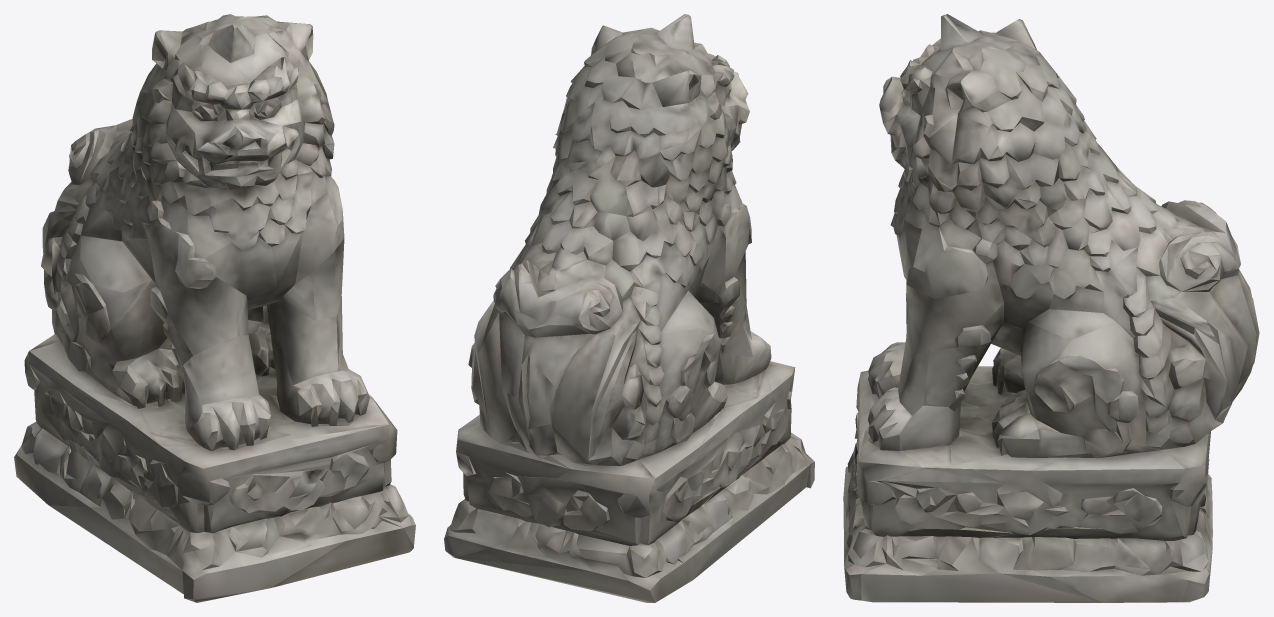
The model's file is haetae.glb.
The picture shows the model from 3 angles, left to right: view 1: azimuth 30°, elevation 25°; view 2: azimuth 150°, elevation 25°; view 3: azimuth 270°, elevation 25°; orthographic projection. The views are drawn at different scales.
Bounding box in the file's own units: 0.8931 × 1.9 × 1.36.
1 material, 1 textured.
